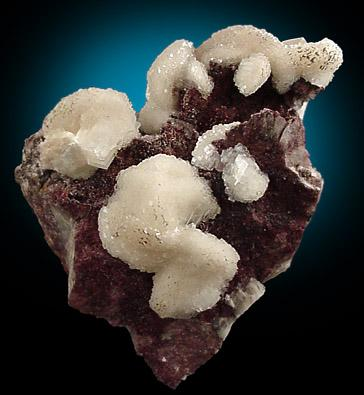calcite: (39, 27, 343, 180), (98, 122, 269, 320)
